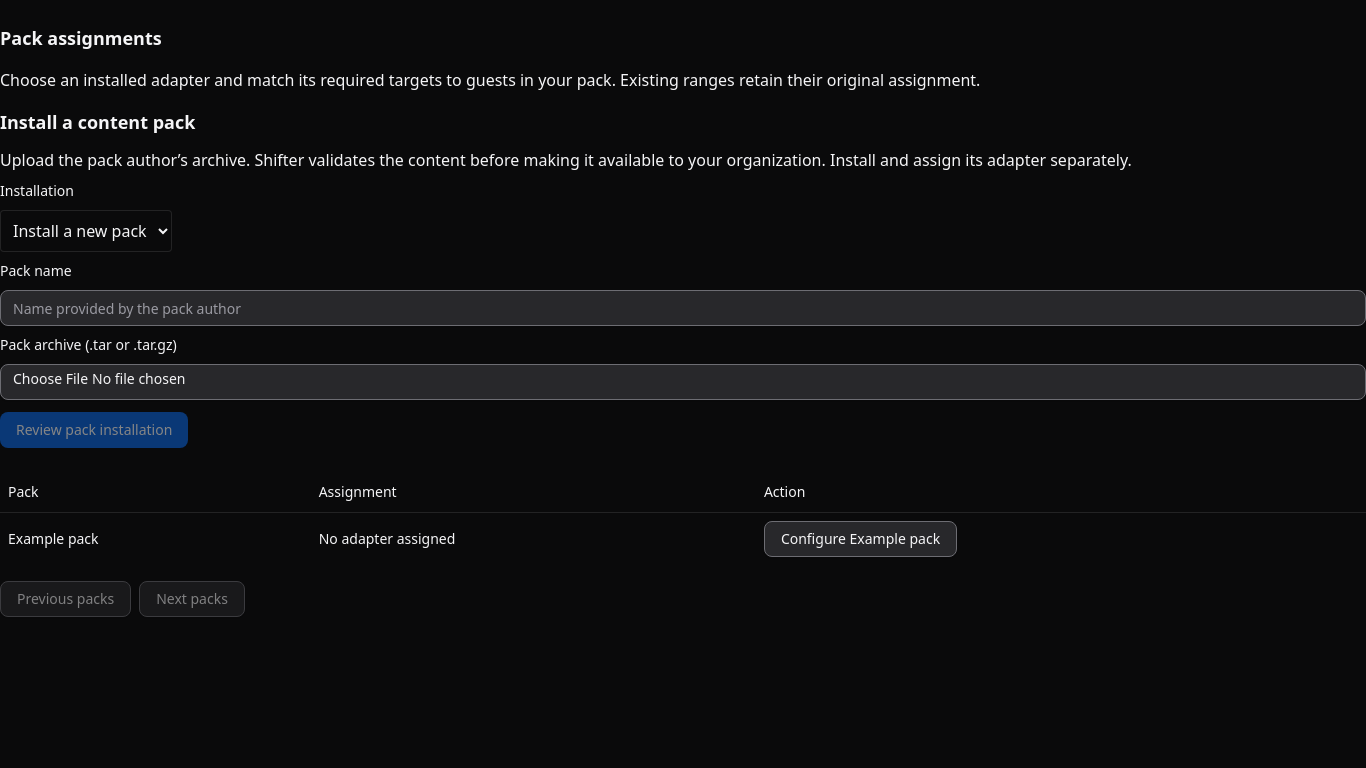
Scenario: pack adapter assignments › provides accessible guest selectors and confirms the exact pack version before saving
Click the button "Configure Example pack" at (861, 538), box x1=764 y1=520 x2=957 y2=556
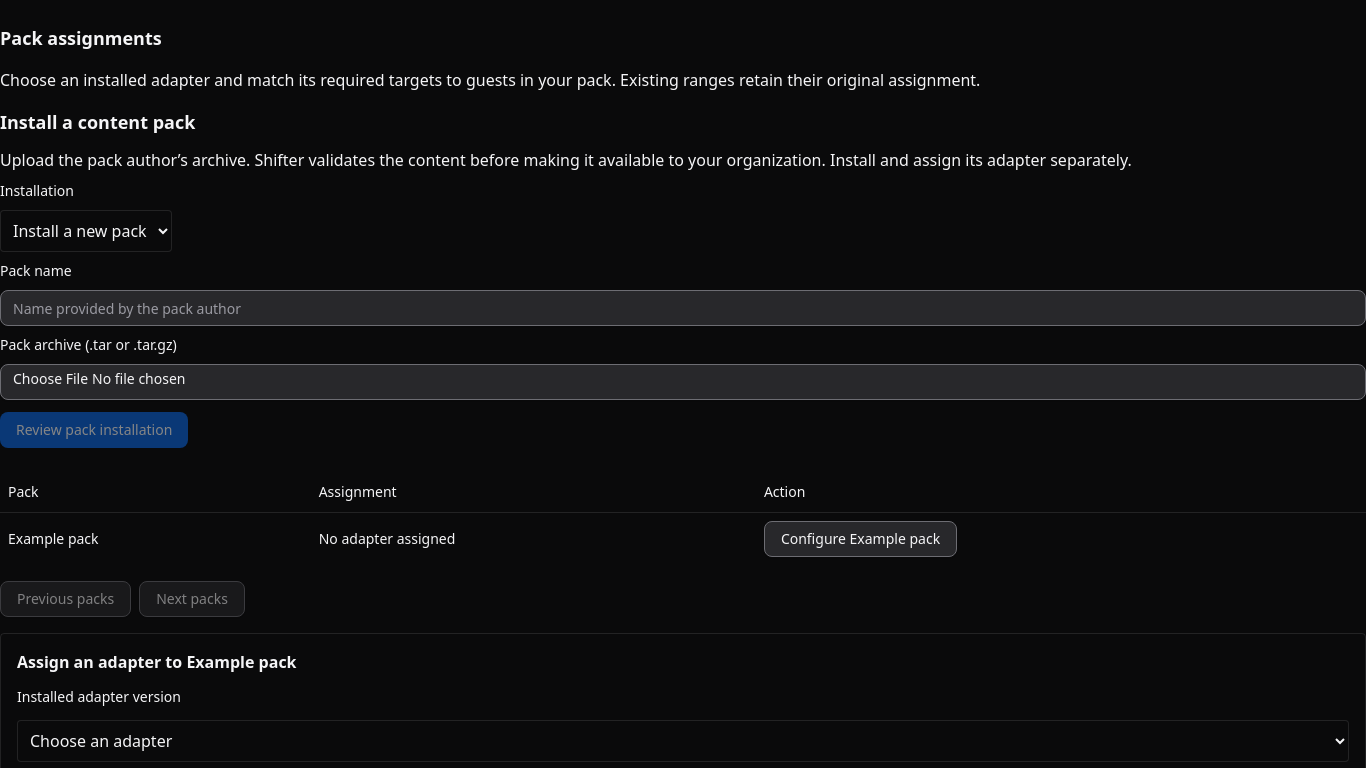
Select "example.adapter · 2 (ready)" in the dropdown labelled "Installed adapter version" at (683, 740), box x1=17 y1=720 x2=1349 y2=762
(page scrolled)
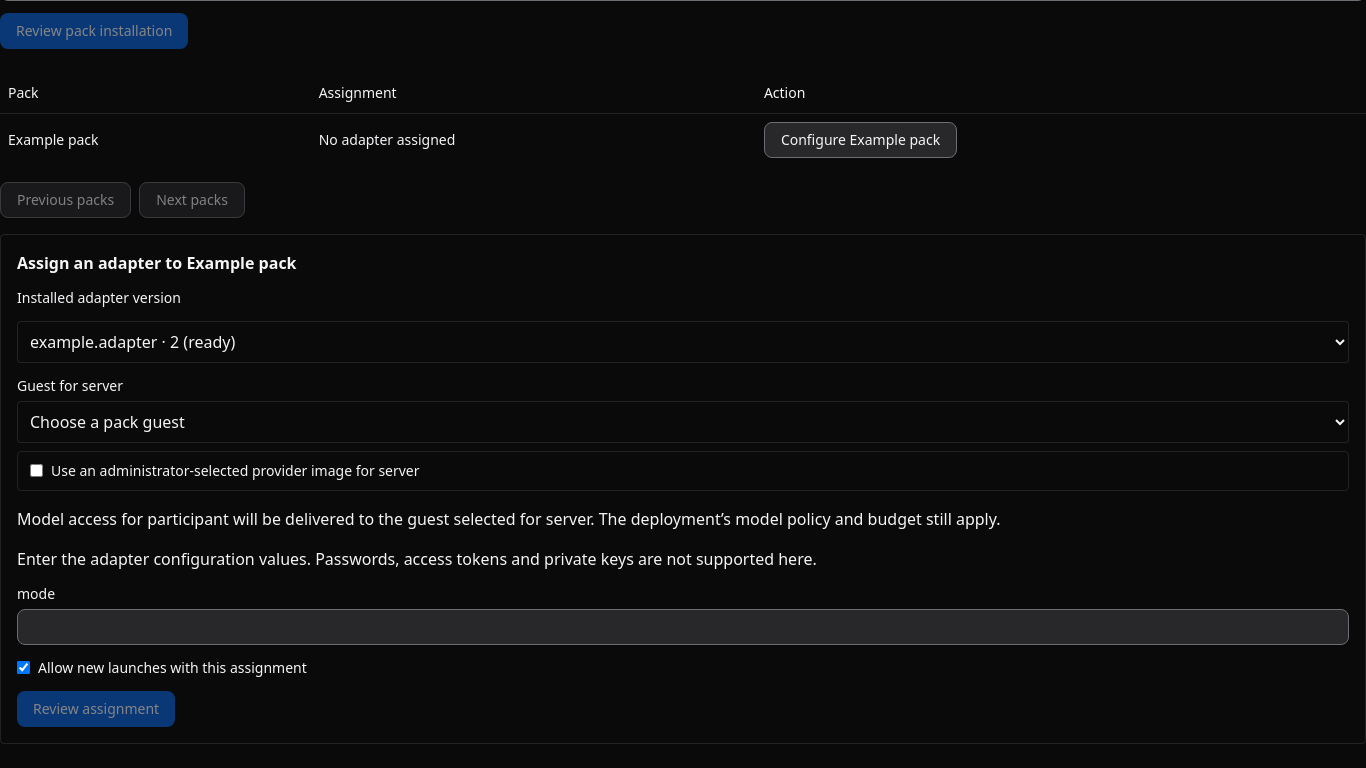
Select "node.web (linux)" in the dropdown labelled "Guest for server" at (683, 422), box x1=17 y1=400 x2=1349 y2=442
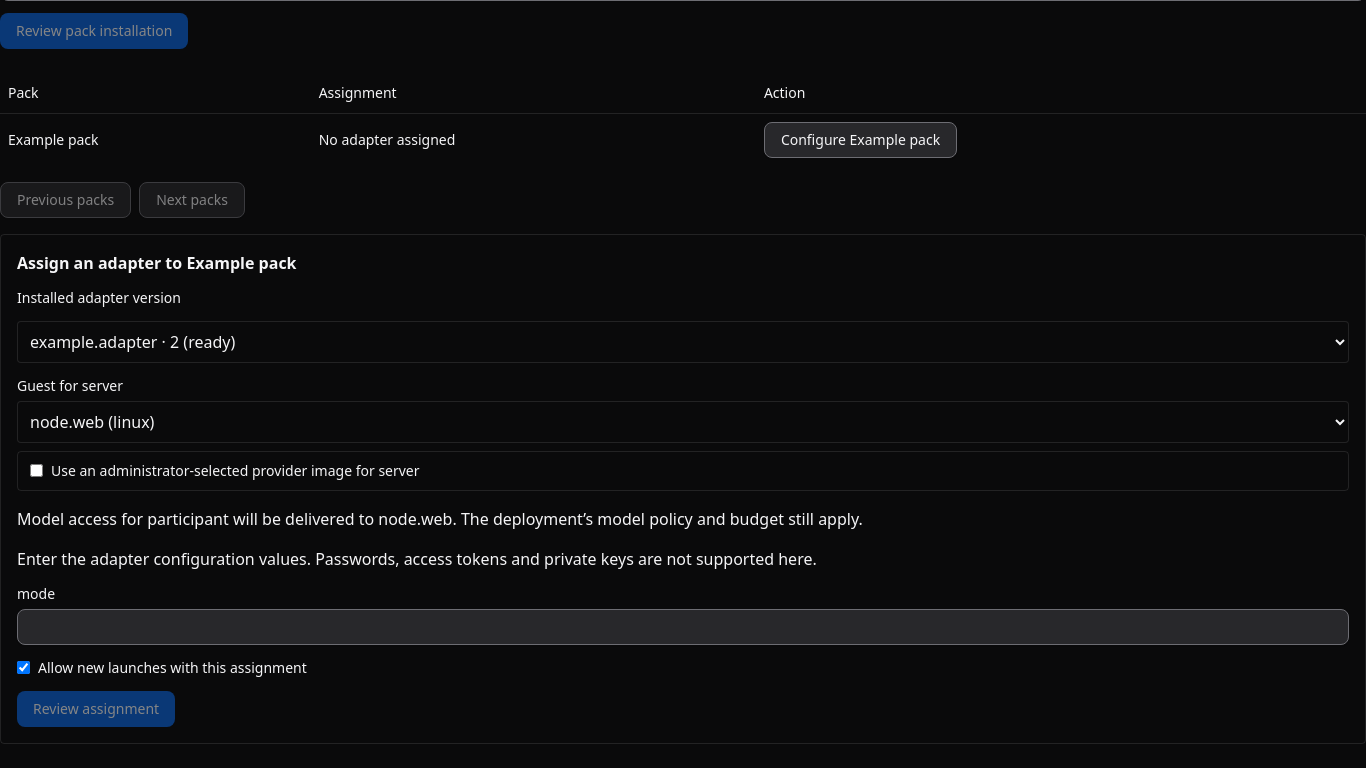
Type "training" into the field labelled "mode" at (683, 626), box x1=17 y1=608 x2=1349 y2=644
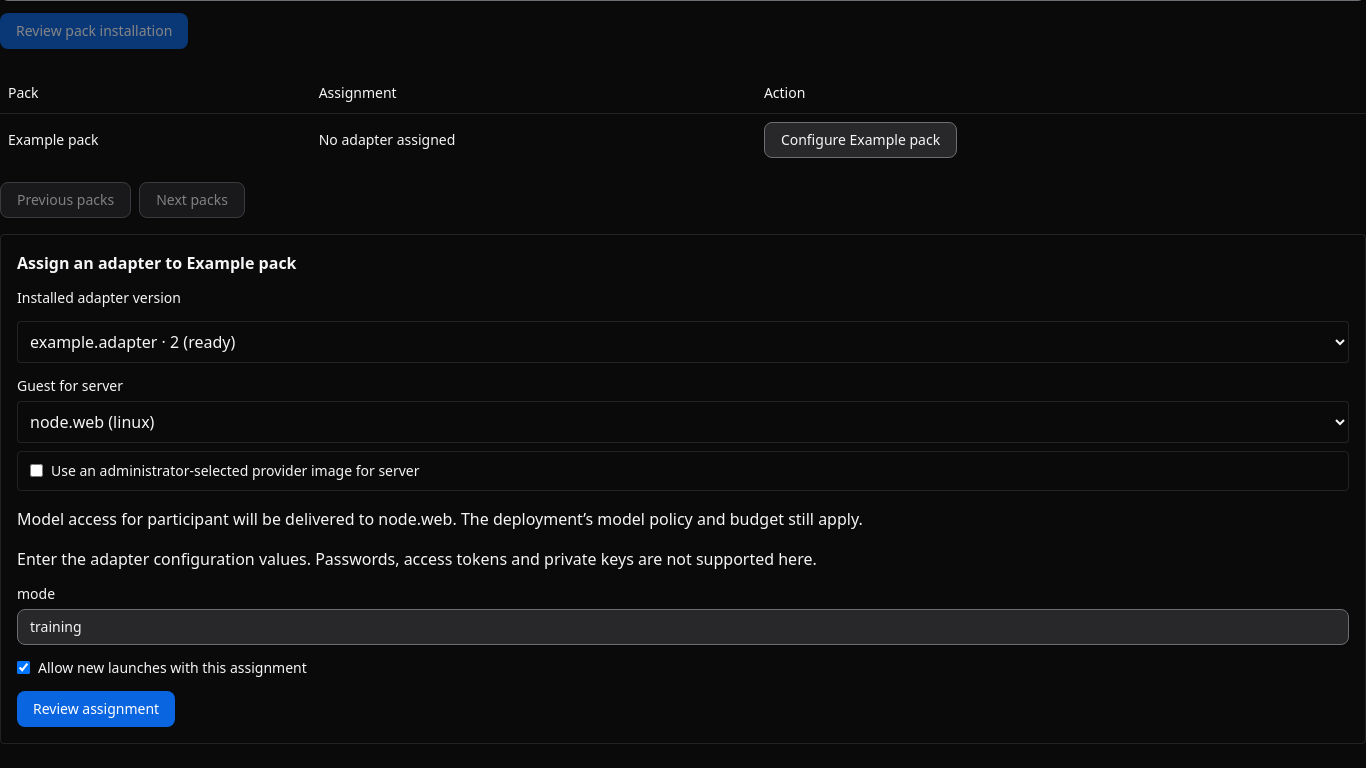
Result: the text "Model access for participant will be delivered to node.web" is shown at x1=17 y1=508 x2=863 y2=530
Click the button "Review assignment" at (96, 708), box x1=17 y1=690 x2=175 y2=726
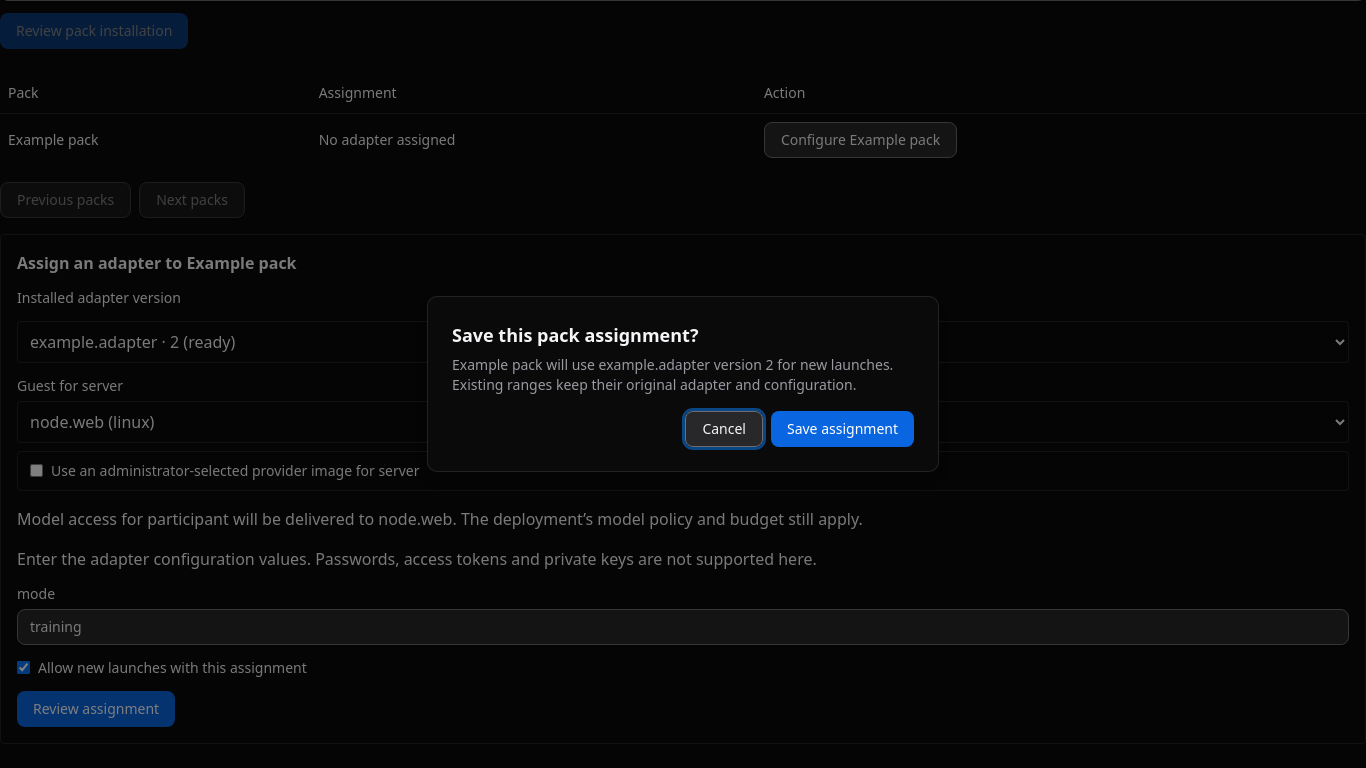
Click the button "Save assignment" at (842, 429), box x1=771 y1=411 x2=914 y2=447
(page scrolled)
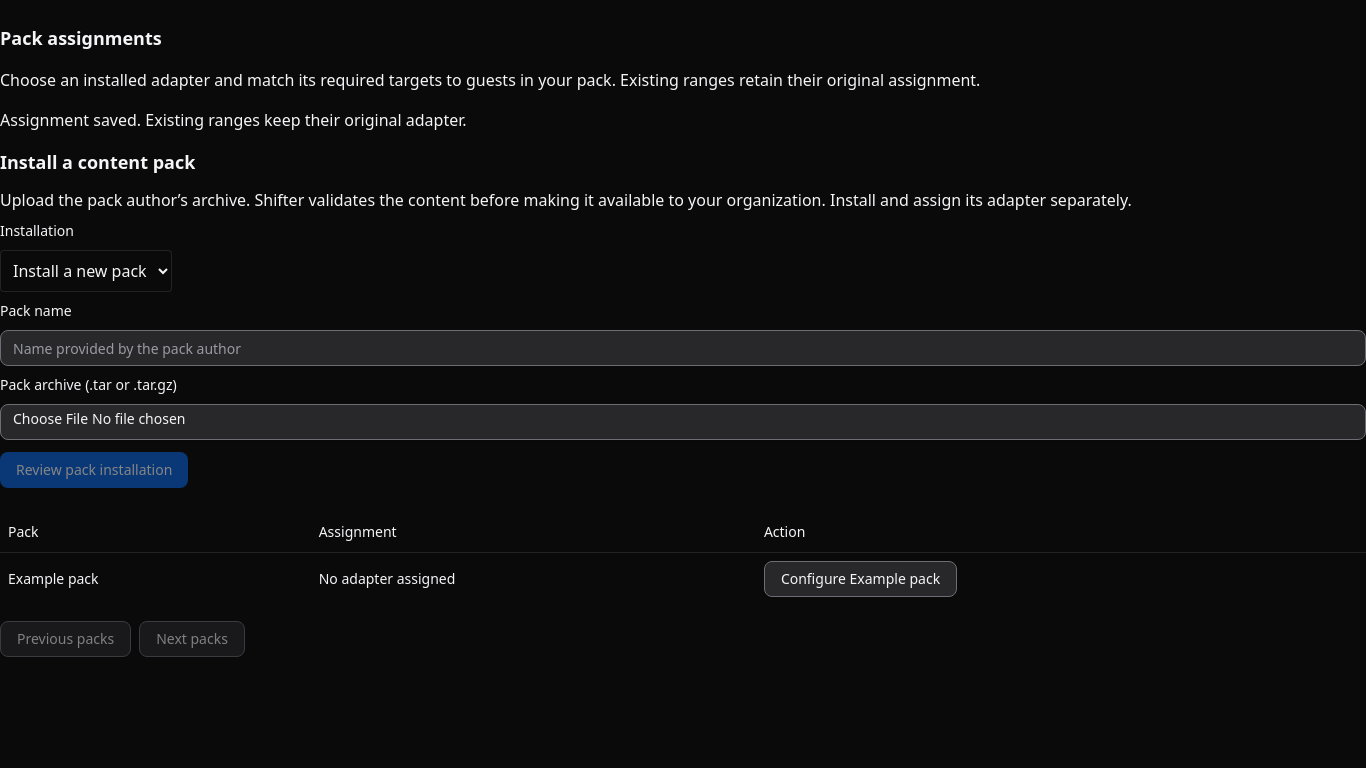
Result: the text "Assignment saved. Existing ranges keep their original adapter." is shown at x1=0 y1=109 x2=467 y2=131
